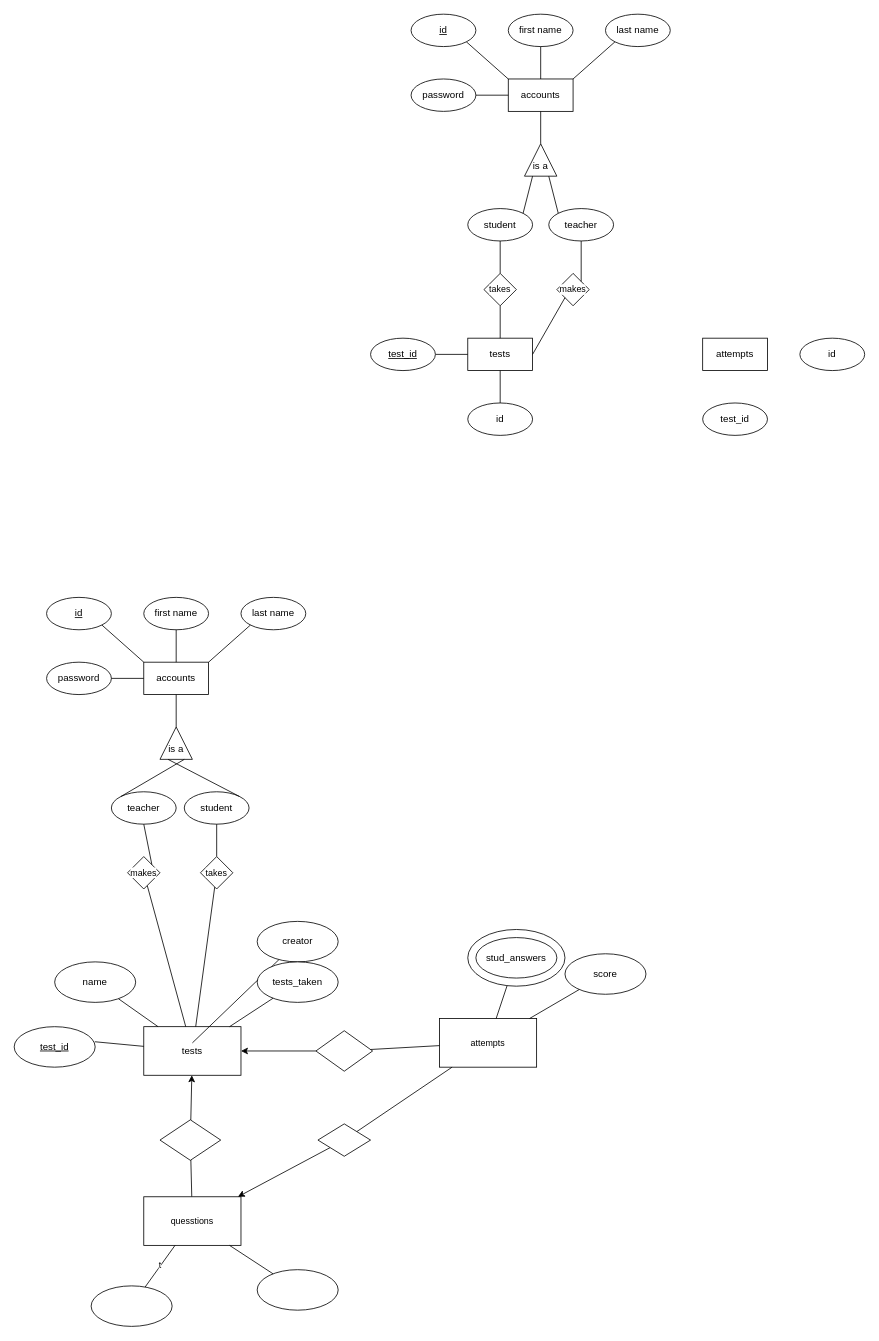
The diagram is 879 pixels wide and 1341 high, and some of its shapes have lost their labels. The centre of each missing label's shape, as x and y in pixels:
"answers" belongs at (344,1139).
"attempted" belongs at (344,1050).
"has" belongs at (190,1139).
"question" belongs at (297,1289).
"question no" belongs at (131,1305).
